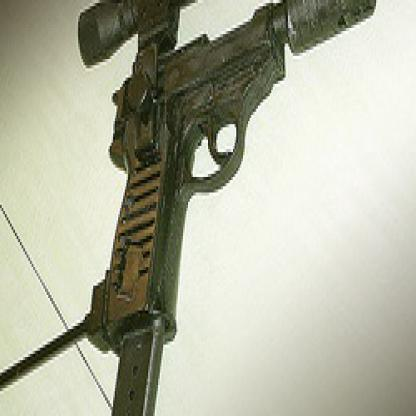gun: (98, 0, 376, 345)
